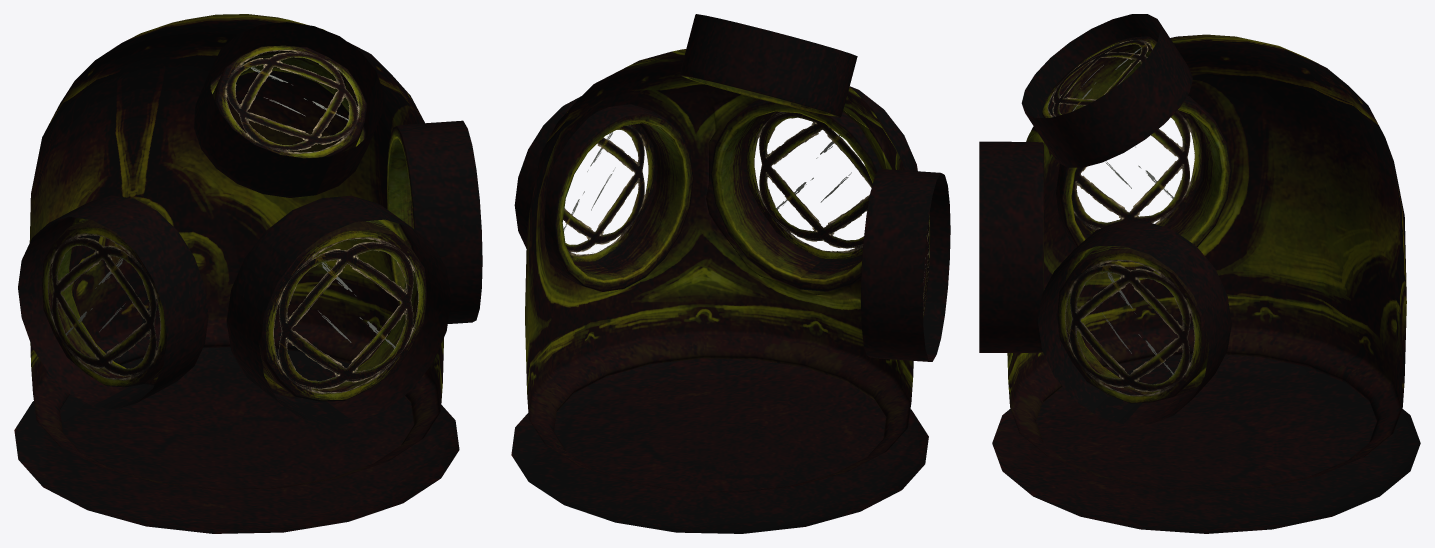
File: Divers Helmet Overlay.fbx
3 renders of one model, left to right at view 1: azimuth 30°, elevation 25°; view 2: azimuth 150°, elevation 25°; view 3: azimuth 270°, elevation 25°, orthographic. The views are drawn at different scales.
Parts seen in each view (by area): view 1: pCylinder6; view 2: pCylinder6; view 3: pCylinder6.
Part boxes in pixels (x1,y1,x2,y2): pCylinder6: (14,14,482,533); pCylinder6: (511,14,950,533); pCylinder6: (979,14,1420,533).
Size of the model in its own units: 2.65 by 2.56 by 2.43.
Materials: 2 (2 with a texture image).
